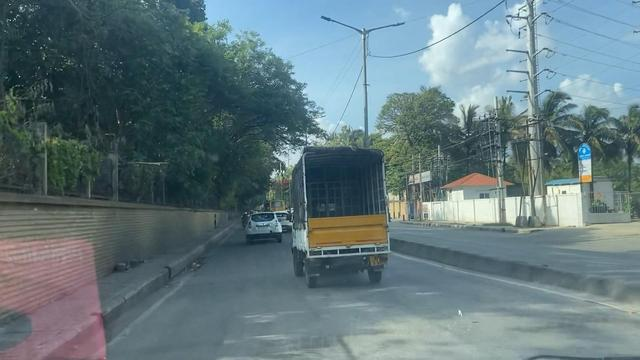HMV: (289, 146, 389, 285)
LMV: (248, 216, 281, 242)
